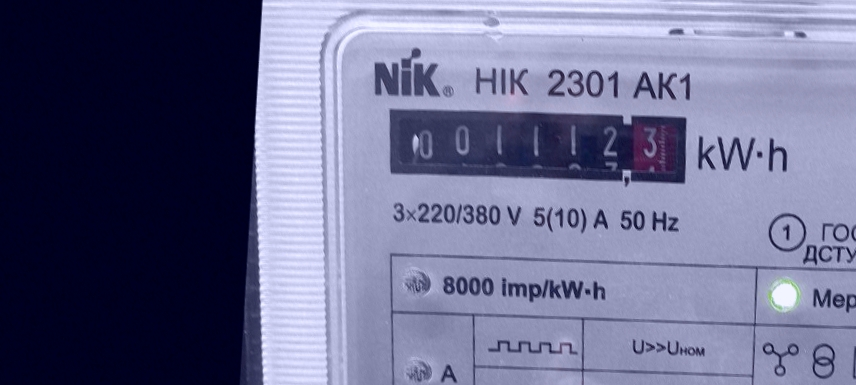0: (447, 120, 472, 159), (411, 125, 435, 161)
1: (487, 119, 507, 158), (525, 121, 541, 159), (563, 121, 579, 159)
2: (596, 123, 620, 160)
3: (637, 124, 657, 160)
screen: (376, 96, 693, 195)
